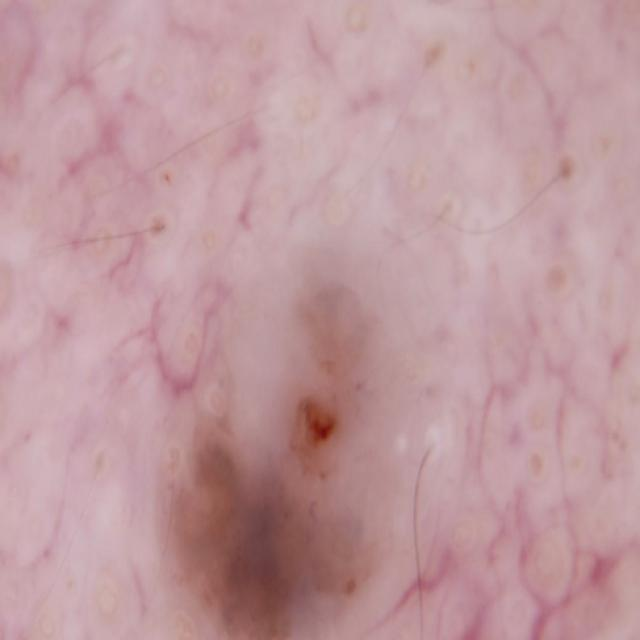Carcinoma: (128, 319, 391, 640)
